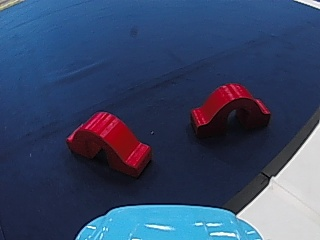bridge: (62, 105, 158, 178), (185, 80, 273, 136)
